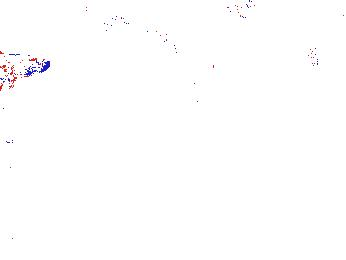glassfish: (81, 7, 208, 79)
redtail glassfish: (1, 52, 51, 80), (304, 44, 335, 77)
